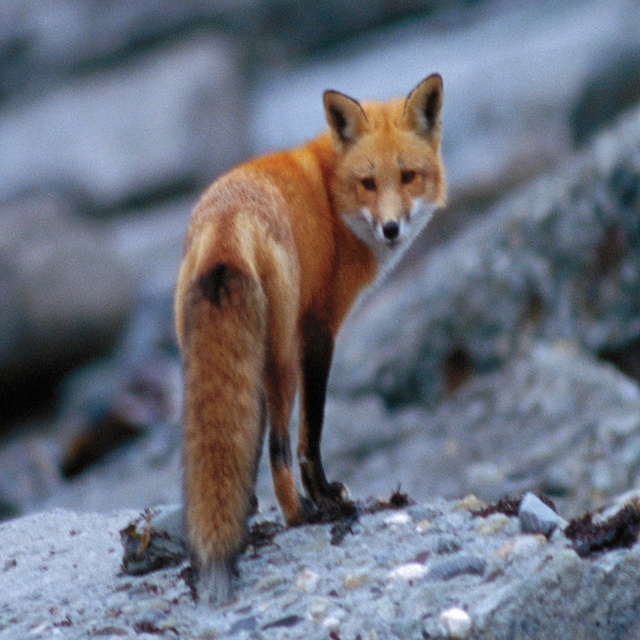Fox: (172, 74, 450, 610)
